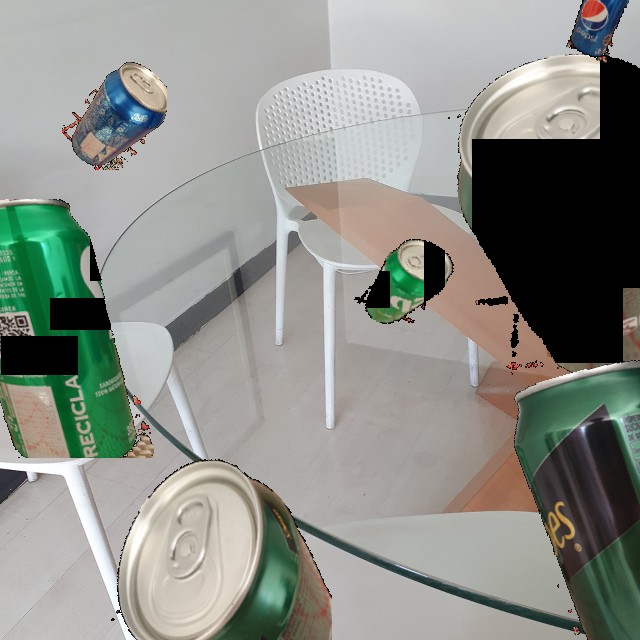pepsi: (62, 61, 167, 170), (565, 0, 634, 65)
schweppes: (443, 39, 640, 388), (54, 444, 332, 640), (487, 351, 640, 640)
sprite: (0, 199, 154, 458), (350, 222, 456, 345)
